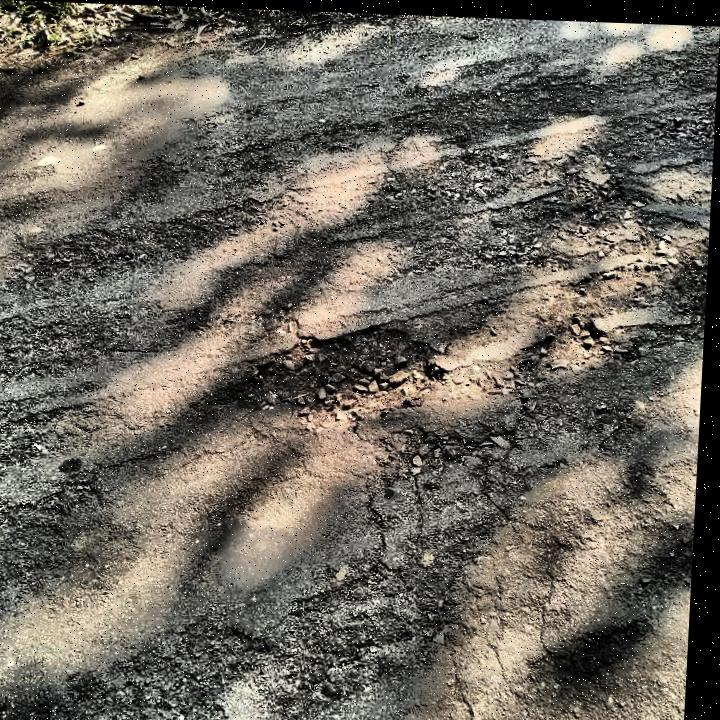pothole: (242, 313, 452, 424)
